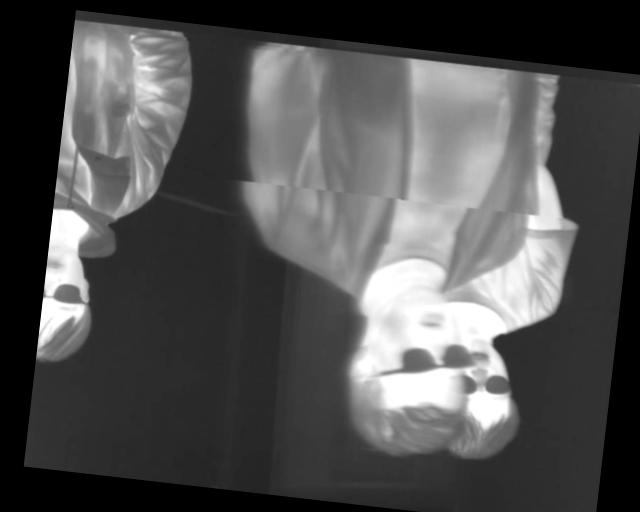face: (339, 280, 474, 465), (446, 338, 529, 467), (36, 242, 100, 368)
